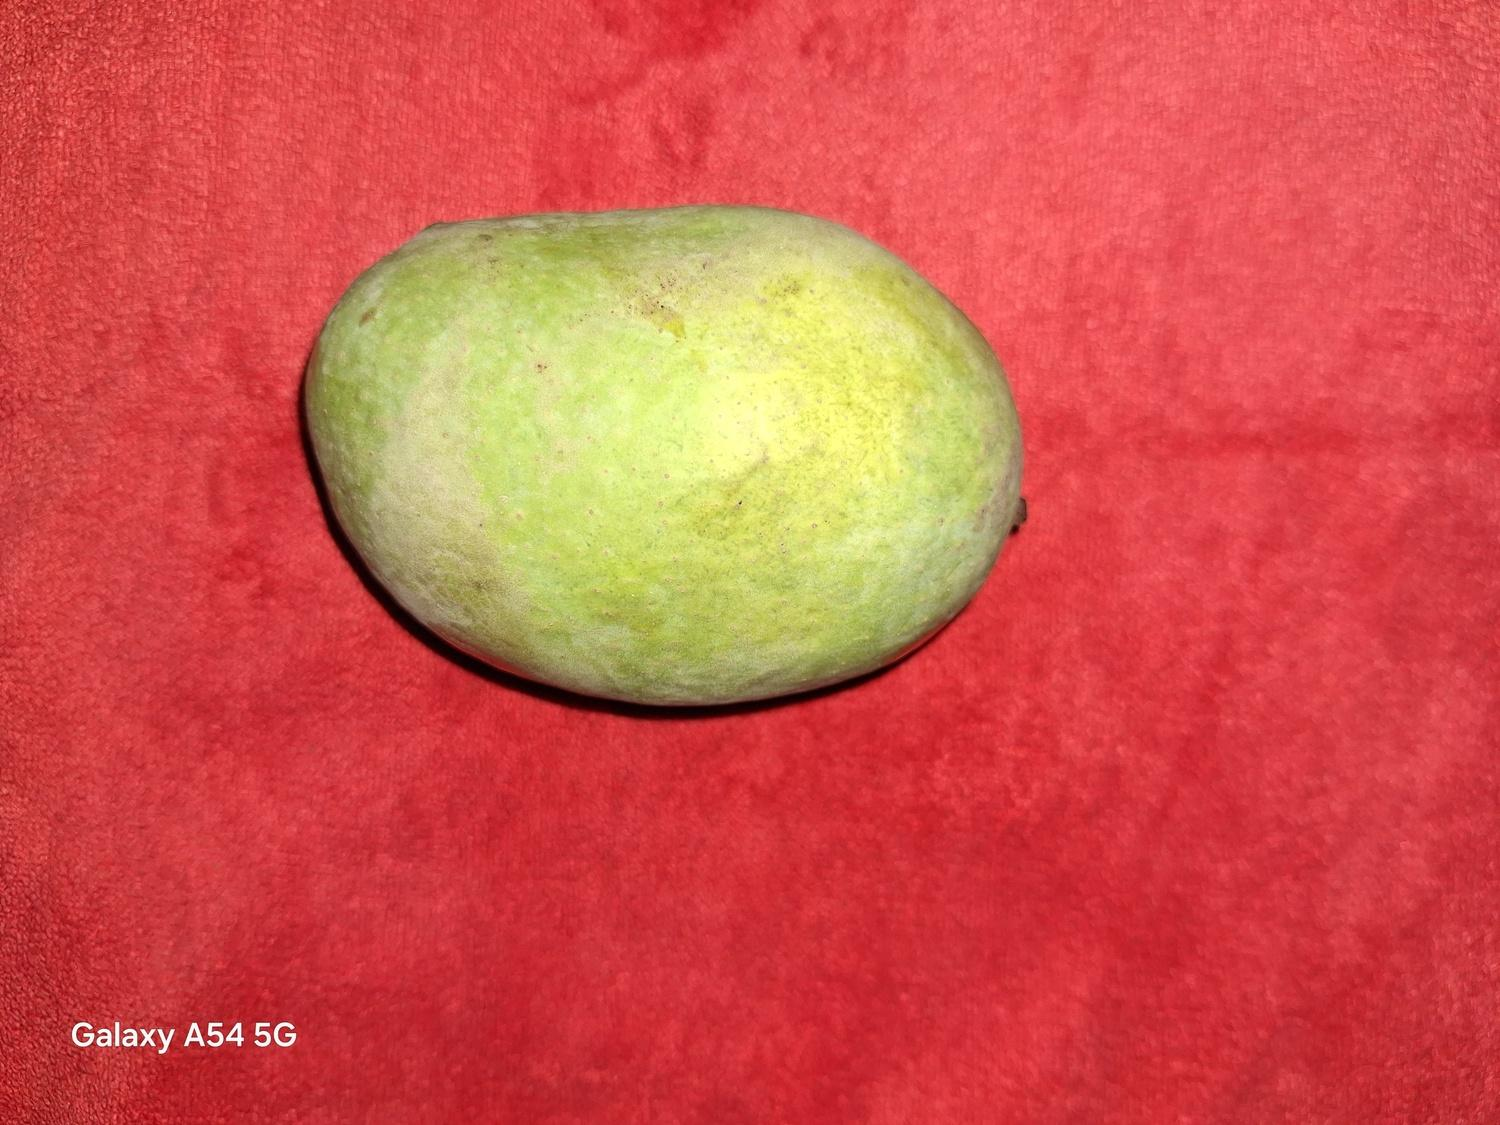mango: (300, 201, 1028, 708)
